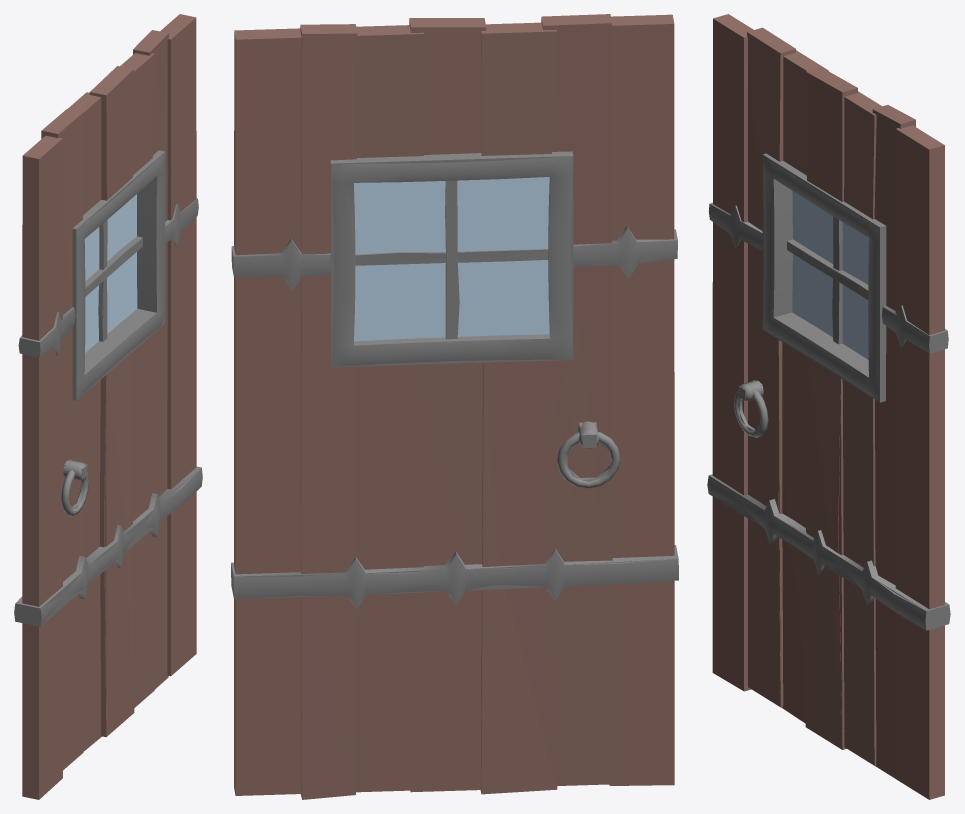
The model's file is Wooden_Door_1_W.fbx.
3 renders of one model, left to right at view 1: azimuth 30°, elevation 25°; view 2: azimuth 150°, elevation 25°; view 3: azimuth 270°, elevation 25°, orthographic. The views are drawn at different scales.
Visible parts, largest first — view 1: Wooden_Door_1_W_LOD0, Wooden_Door_1_W, Wooden_Door_1_Glass; view 2: Wooden_Door_1_W_LOD0, Wooden_Door_1_W, Wooden_Door_1_Glass; view 3: Wooden_Door_1_W_LOD0, Wooden_Door_1_W, Wooden_Door_1_Glass.
Boxes of the visible parts, <box> form: Wooden_Door_1_W_LOD0: <box>15,18,201,799</box>; Wooden_Door_1_W: <box>14,14,202,751</box>; Wooden_Door_1_Glass: <box>84,194,137,352</box>; Wooden_Door_1_W_LOD0: <box>231,24,678,799</box>; Wooden_Door_1_W: <box>231,14,678,799</box>; Wooden_Door_1_Glass: <box>354,177,549,341</box>; Wooden_Door_1_W_LOD0: <box>709,19,948,799</box>; Wooden_Door_1_W: <box>707,14,950,743</box>; Wooden_Door_1_Glass: <box>792,191,868,359</box>.
Size of the model in its own units: 0.9994 by 2.18 by 0.7287.
